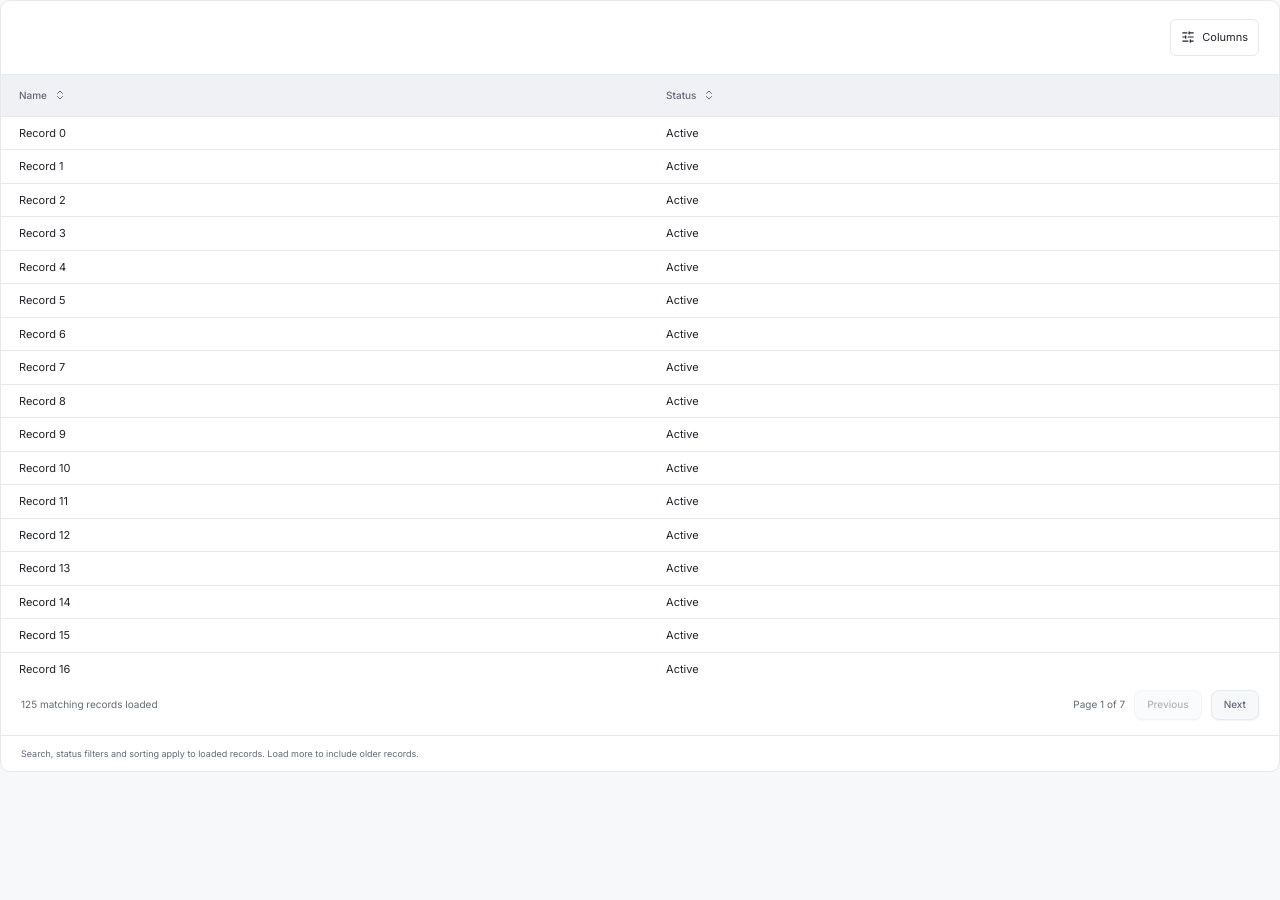
Test: renders at most 20 rows per visible page
This screenshot has width=1280, height=900.
What coordinates should you click on to do the following:
click the button "Next"
I would click on:
 (1235, 704)
Its box is [1211,690,1259,720].
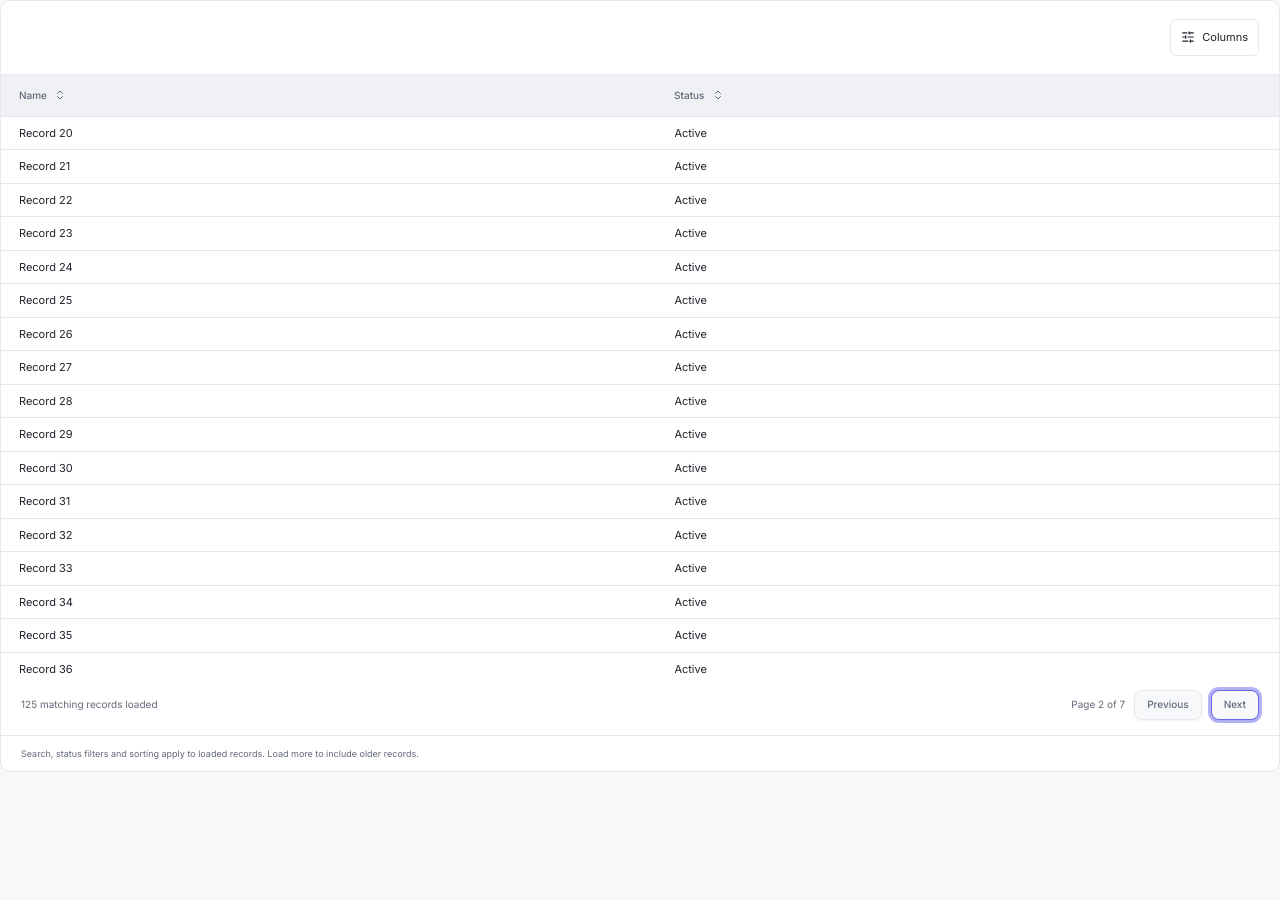
Result: the text "Record 20" is shown at [1,116,656,150]
Result: the text "Record 0" is gone
